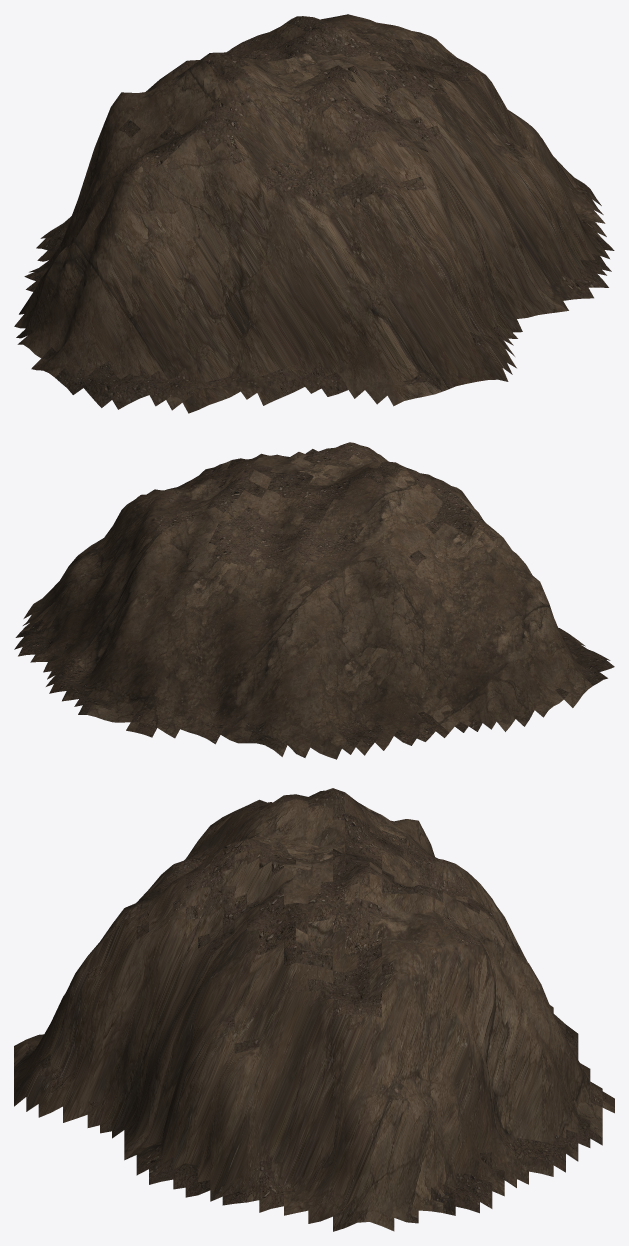
The model's file is border_shelf_a_v5_dead.glb.
The picture shows the model from 3 angles, top to bottom: view 1: azimuth 30°, elevation 25°; view 2: azimuth 150°, elevation 25°; view 3: azimuth 270°, elevation 25°; orthographic projection. The views are drawn at different scales.
Parts seen in each view (by area): view 1: border_shelf_a; view 2: border_shelf_a; view 3: border_shelf_a.
Part boxes in pixels (x1,y1,x2,y2): border_shelf_a: (14, 14, 614, 413); border_shelf_a: (14, 442, 614, 759); border_shelf_a: (14, 788, 614, 1231).
Bounding box in the file's own units: 1.04 × 0.4124 × 0.8909.
Materials: 2 (2 with a texture image).
